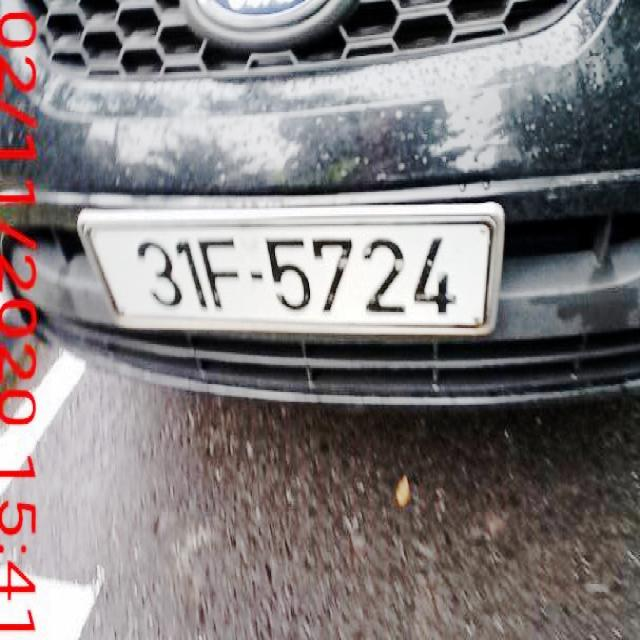license_plate: (77, 213, 500, 332)
